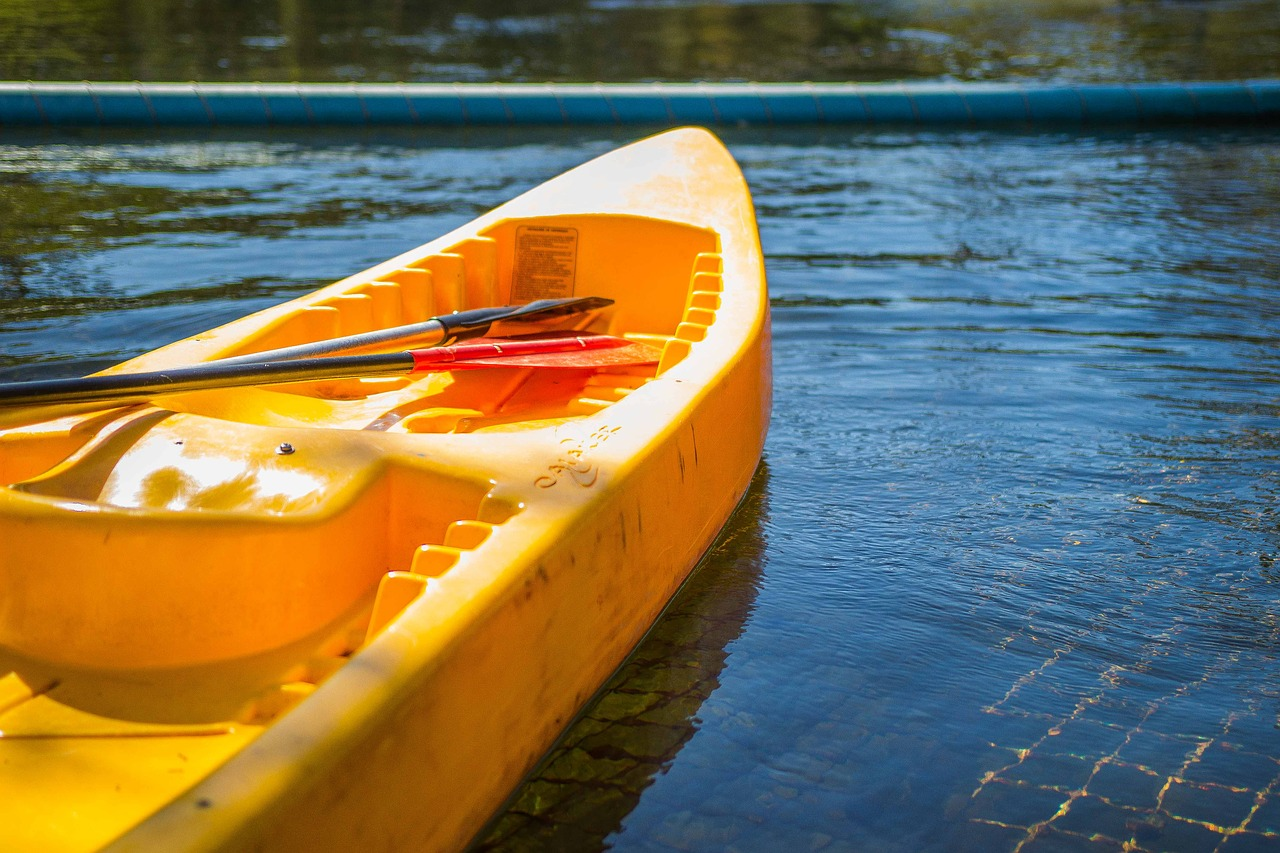kayak: (1, 122, 779, 851)
